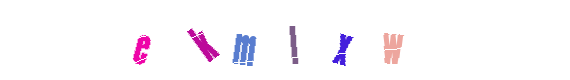E: (136, 0, 216, 80)
K: (211, 0, 291, 80)
L: (253, 0, 333, 80)
M: (245, 0, 325, 80)
W: (302, 0, 382, 80)
X: (293, 0, 373, 80)
